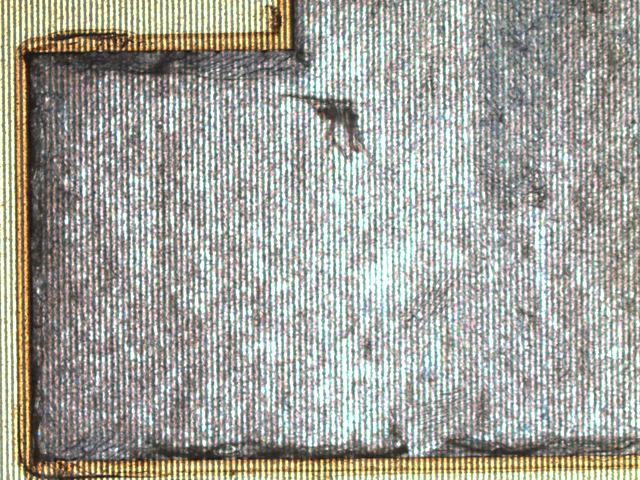SEZ BURNT: (22, 1, 640, 480)
